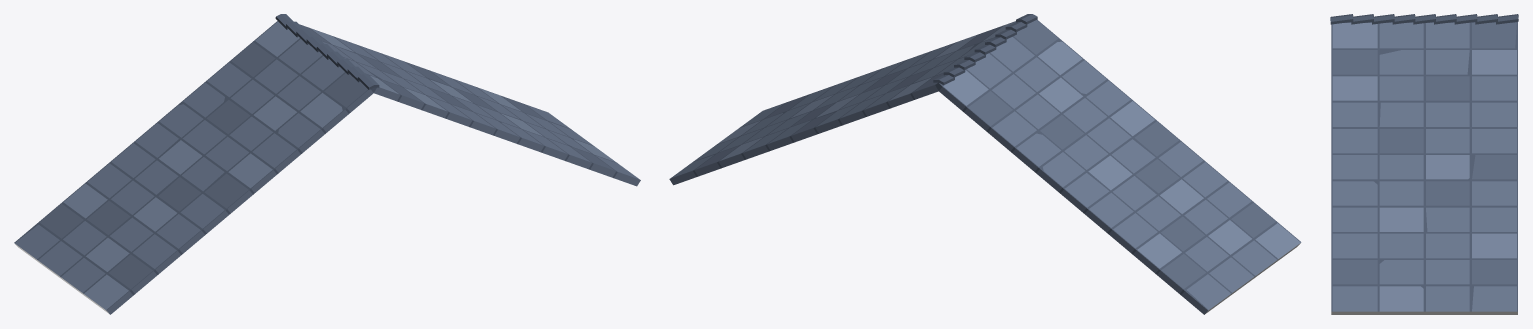
Rendered from Roof3_C7_01.fbx.
3 views of the same model, side by side, from view 1: azimuth 30°, elevation 25°; view 2: azimuth 150°, elevation 25°; view 3: azimuth 270°, elevation 25° (orthographic).
Parts seen in each view (by area): view 1: Roof3_C7_01; view 2: Roof3_C7_01; view 3: Roof3_C7_01.
Boxes of the visible parts, <box> form: Roof3_C7_01: <box>14,14,640,314</box>; Roof3_C7_01: <box>669,14,1301,314</box>; Roof3_C7_01: <box>1330,14,1518,314</box>.
Size of the model in its own units: 833 by 252 by 252.
